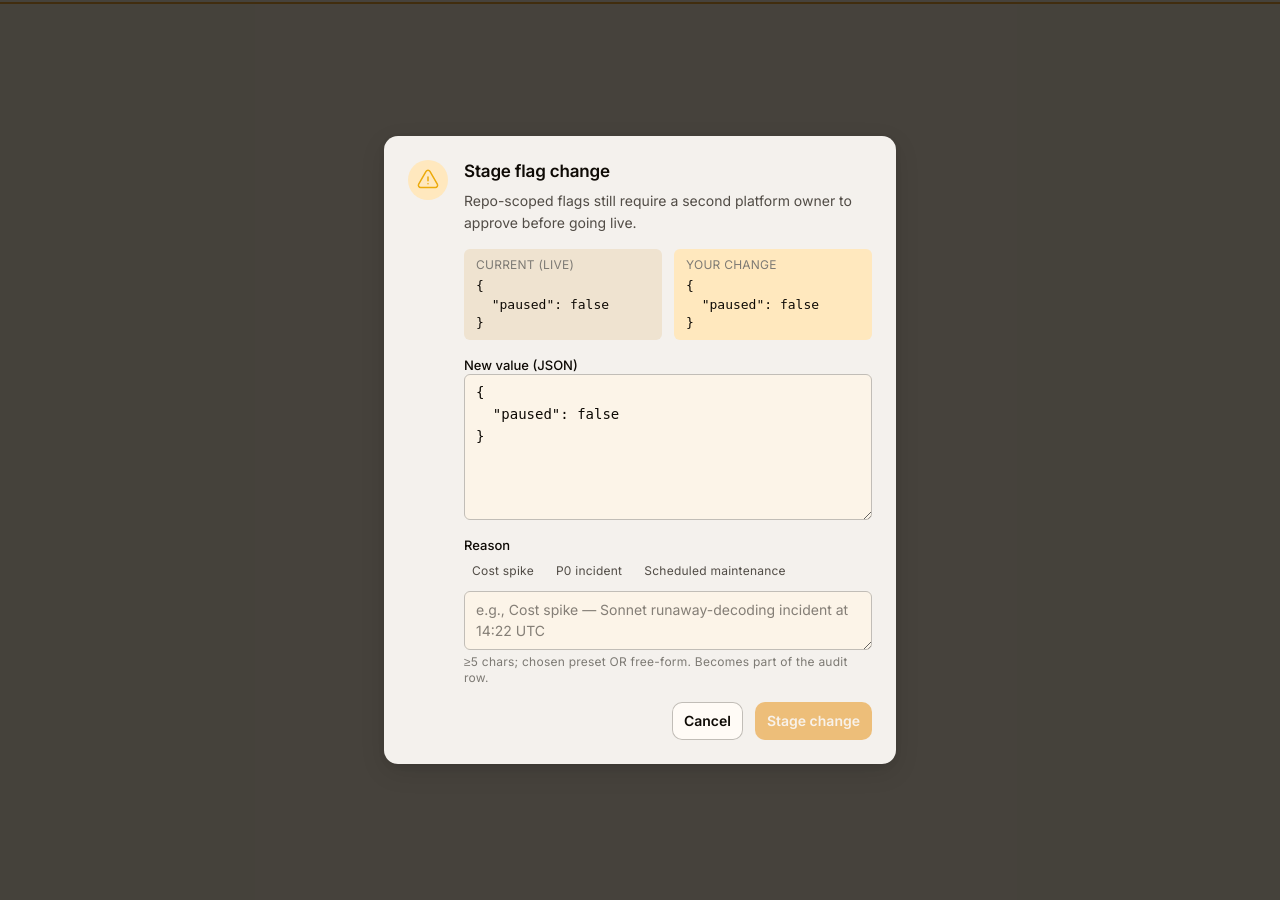
Test: FlagEditModal › first-approval stage: requires reason ≥5 chars + valid JSON
Check: the button "Stage change" is disabled, box [755, 702, 872, 740]
Type "ok" into the text box labelled "Reason" at (668, 620), box [464, 591, 872, 650]
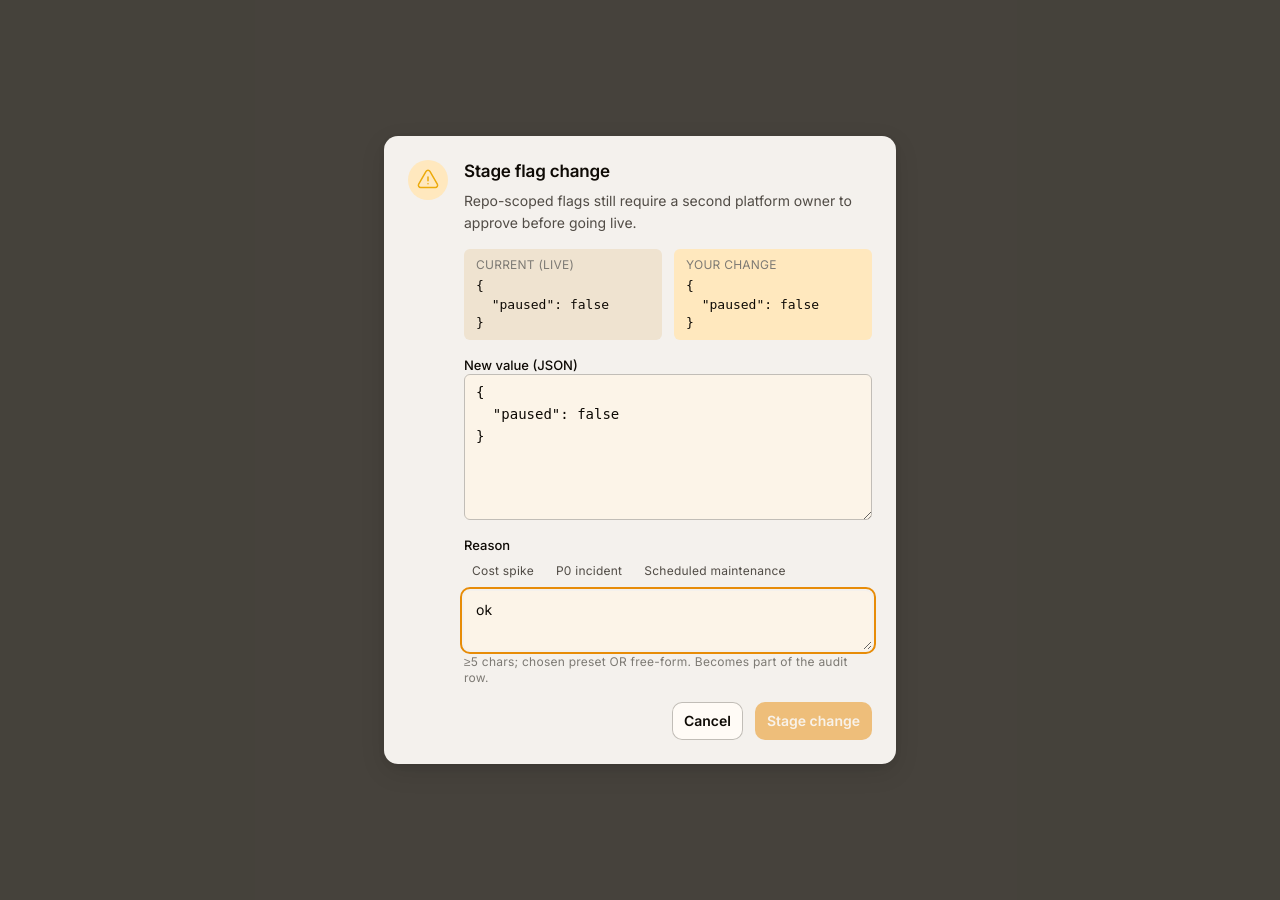
Check: the button "Stage change" is disabled, box [755, 702, 872, 740]
Type " enough" into the text box labelled "Reason" at (668, 620), box [464, 591, 872, 650]
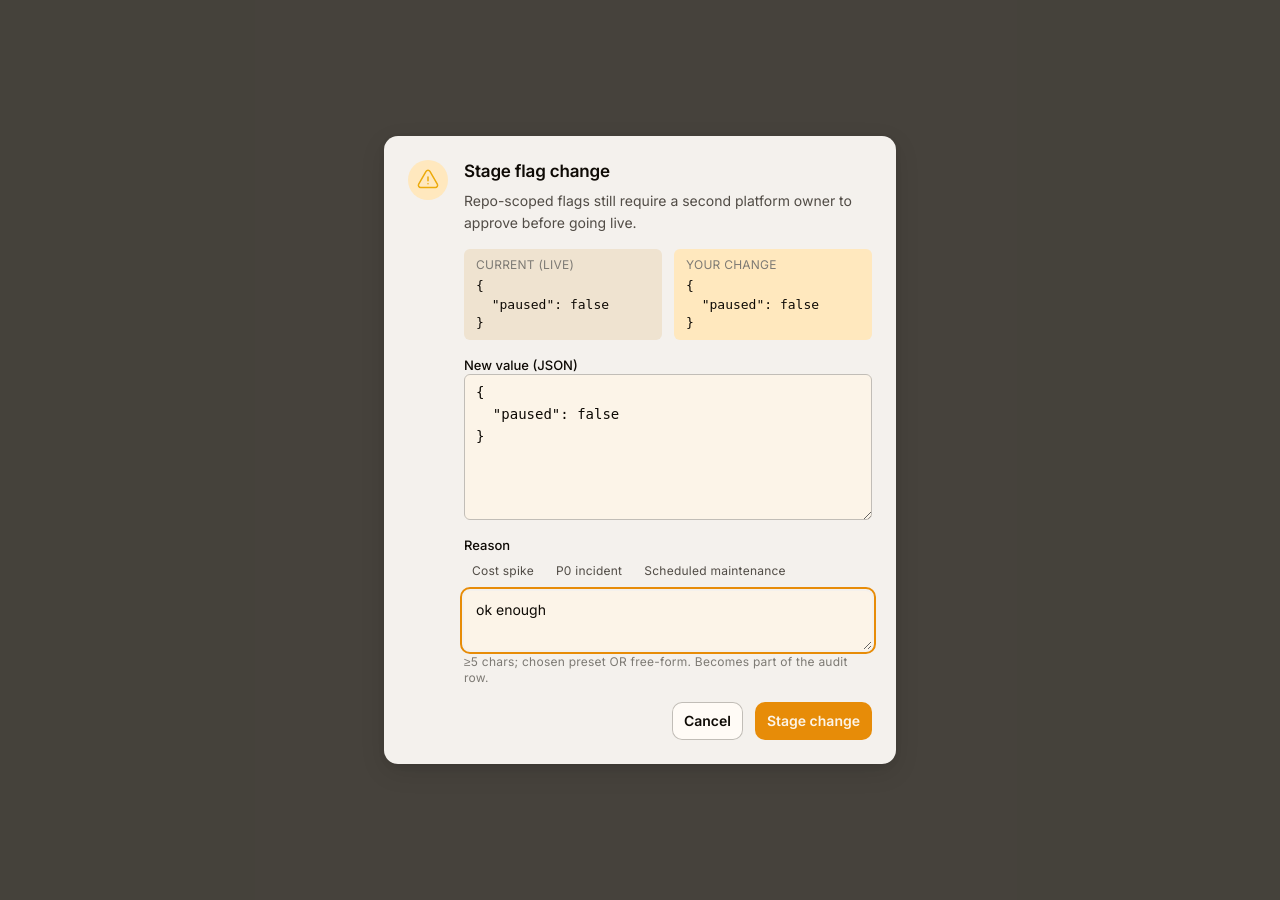
Check: the button "Stage change" is enabled, box [755, 702, 872, 740]
